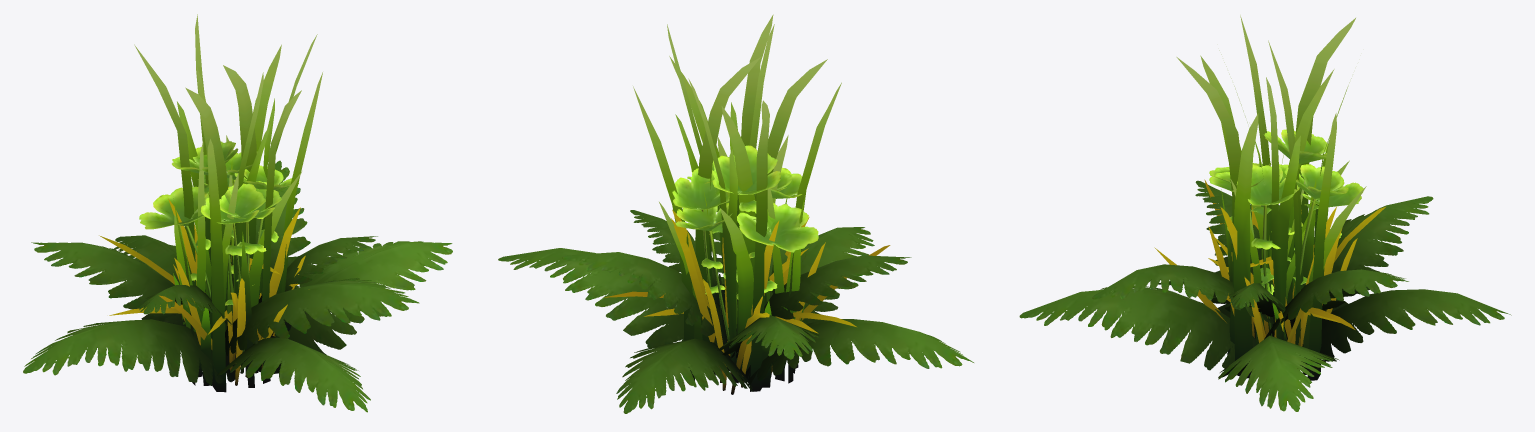
Rendered from MegaPlants.glb.
The picture shows the model from 3 angles, left to right: view 1: azimuth 30°, elevation 25°; view 2: azimuth 150°, elevation 25°; view 3: azimuth 270°, elevation 25°; orthographic projection.
Parts seen in each view (by area): view 1: Fern_1, Grass_Common_Tall, Clover_2, Grass_Common_Short, Grass_Wispy_Short, Clover_1; view 2: Fern_1, Grass_Common_Tall, Grass_Wispy_Short, Clover_2, Grass_Common_Short, Clover_1; view 3: Fern_1, Grass_Common_Tall, Grass_Wispy_Short, Clover_2, Grass_Common_Short, Clover_1.
Part boxes in pixels (x1,y1,x2,y2): Fern_1: (23, 160, 452, 412); Grass_Common_Tall: (134, 14, 322, 392); Clover_2: (139, 141, 298, 372); Grass_Common_Short: (173, 135, 301, 385); Grass_Wispy_Short: (99, 184, 305, 385); Clover_1: (141, 151, 281, 373); Fern_1: (498, 194, 973, 413); Grass_Common_Tall: (633, 14, 841, 391); Grass_Wispy_Short: (604, 209, 890, 394); Clover_2: (675, 145, 817, 348); Grass_Common_Short: (659, 135, 804, 387); Clover_1: (672, 168, 818, 299); Fern_1: (1019, 180, 1511, 411); Grass_Common_Tall: (1176, 15, 1355, 380); Grass_Wispy_Short: (1154, 179, 1385, 368); Clover_2: (1209, 129, 1363, 336); Grass_Common_Short: (1230, 135, 1366, 374); Clover_1: (1209, 164, 1348, 320).
Bounding box in the file's own units: 2.83 × 1.93 × 2.65.
2 materials, 2 textured.
